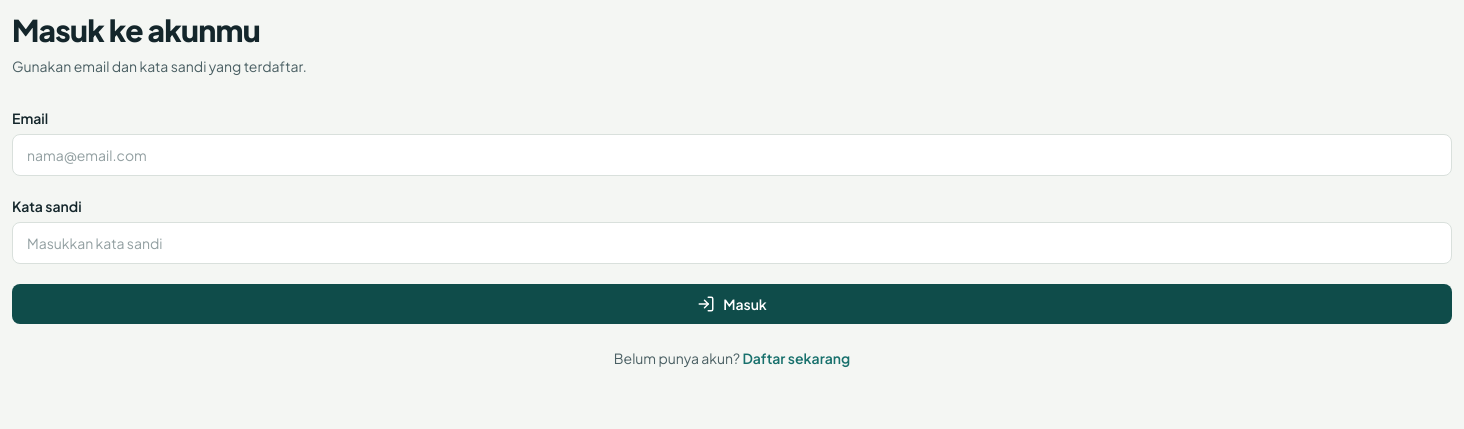
Test: LoginPage › menampilkan pesan validasi bila form kosong
Click the button "Masuk".
click(732, 304)  # box [12,284,1452,324]
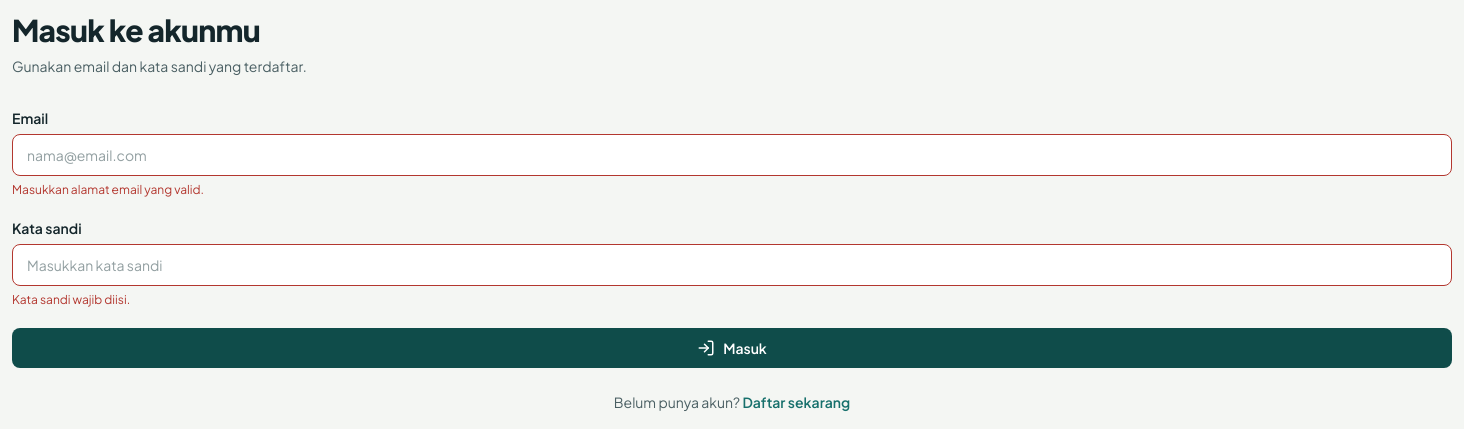
Check: the text "Masukkan alamat email yang valid." is shown, box [12,182,204,197]
Check: the text "Kata sandi wajib diisi." is shown, box [12,292,130,307]
